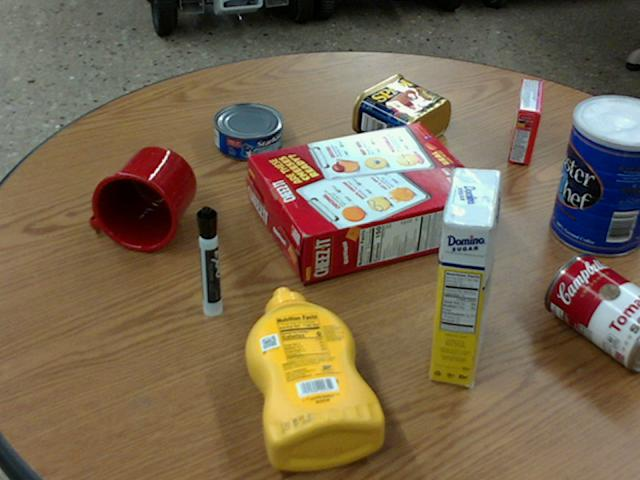cracker_box: (247, 122, 487, 283)
gelatin_box: (509, 79, 542, 163)
large_marker: (196, 205, 220, 315)
master_chef_can: (550, 96, 639, 256)
mug: (89, 146, 194, 251)
mustard_bottle: (245, 287, 384, 469)
potted_meat_can: (352, 74, 450, 151)
sugar_box: (429, 166, 501, 385)
tomato_soup_can: (545, 251, 639, 367)
tuna_fish_can: (213, 102, 282, 158)
